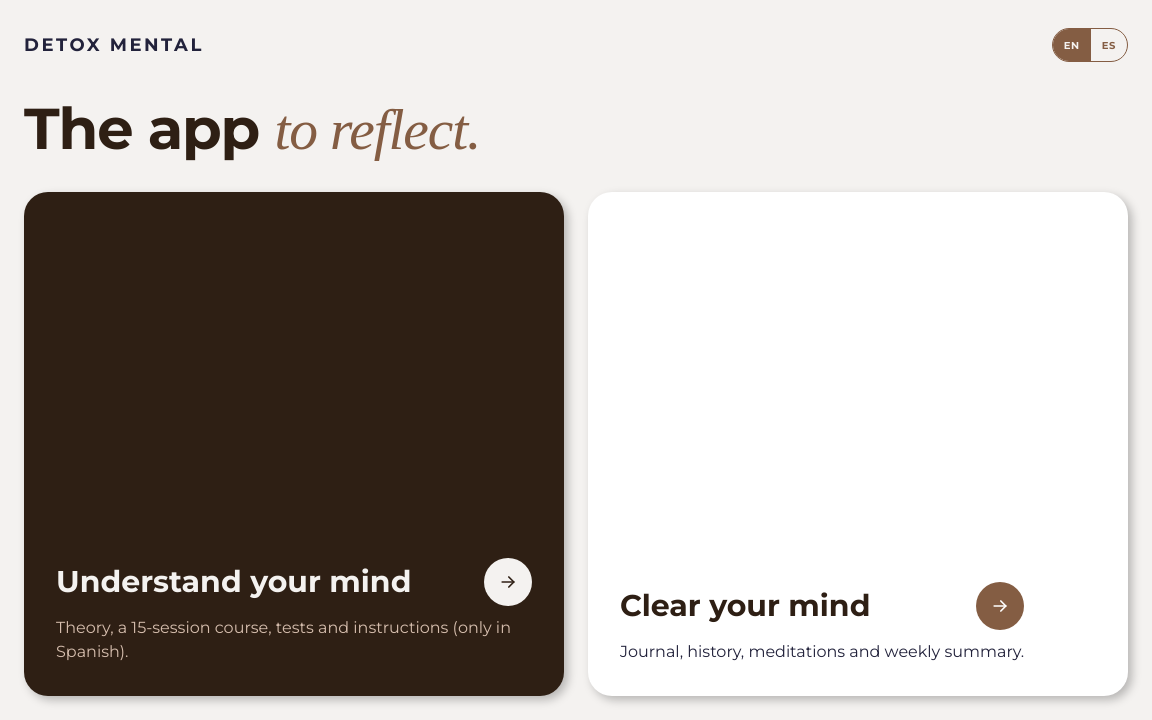
Home › switches to Spanish and remembers the choice
Click the button with aria-label "Spanish" at (1109, 45), box [1091,29,1127,61]
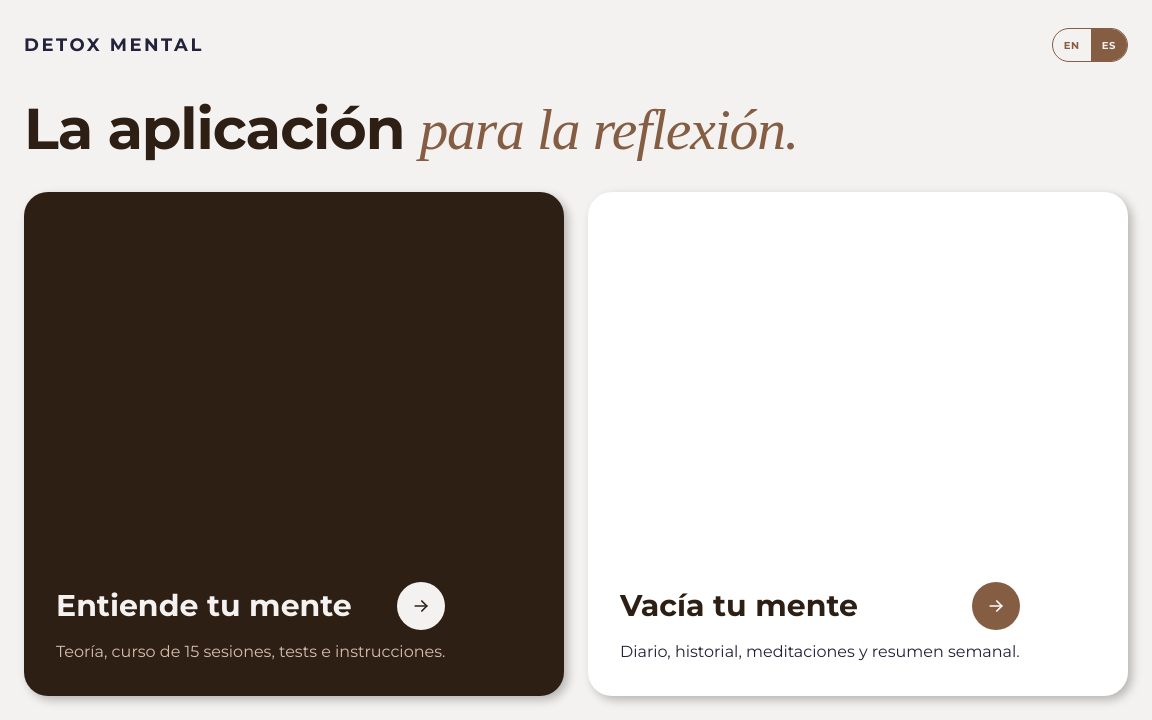
Expected: the heading reads "La aplicación para la reflexión.", [24,93,798,163]
Expected: the button "Entiende tu mente" is shown, [24,192,564,696]
